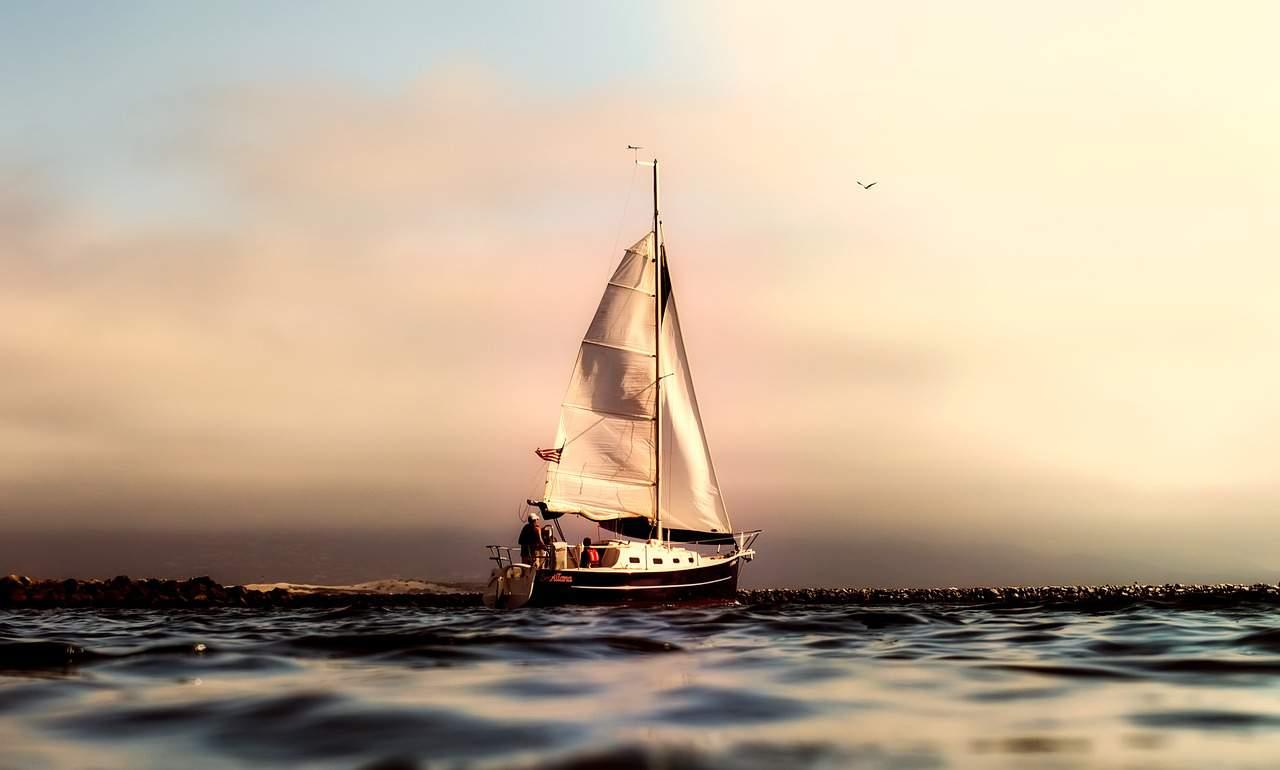Ship: (538, 165, 759, 607)
